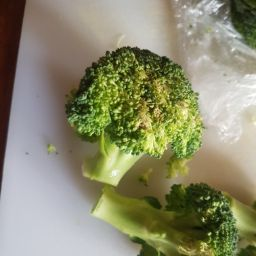Broccoli florets: (51, 32, 217, 191), (73, 172, 256, 256), (221, 1, 254, 57)
